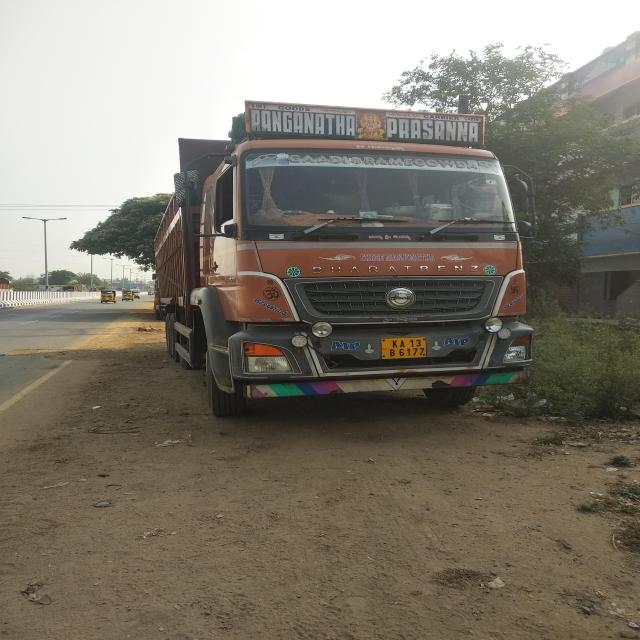1: (409, 340, 415, 348), (407, 349, 411, 356)
3: (416, 339, 421, 346)
6: (400, 349, 404, 356)
7: (412, 348, 418, 356), (419, 348, 424, 356)
a: (400, 340, 406, 348)
b: (390, 349, 396, 357)
k: (392, 340, 398, 348)
